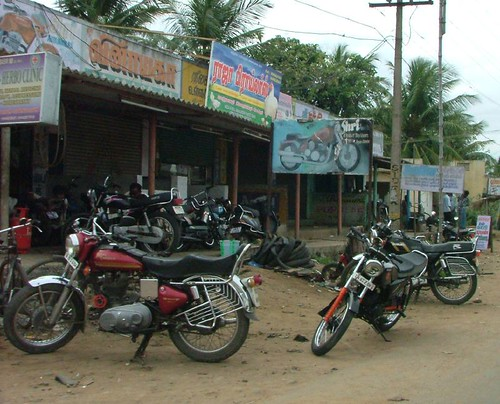motorcycle: (8, 236, 258, 356), (303, 247, 429, 354), (87, 188, 186, 255), (383, 234, 473, 299)
sign: (1, 27, 191, 95), (192, 47, 281, 119), (270, 118, 371, 173), (1, 63, 63, 122)
tree: (258, 26, 379, 119), (386, 63, 487, 151)
